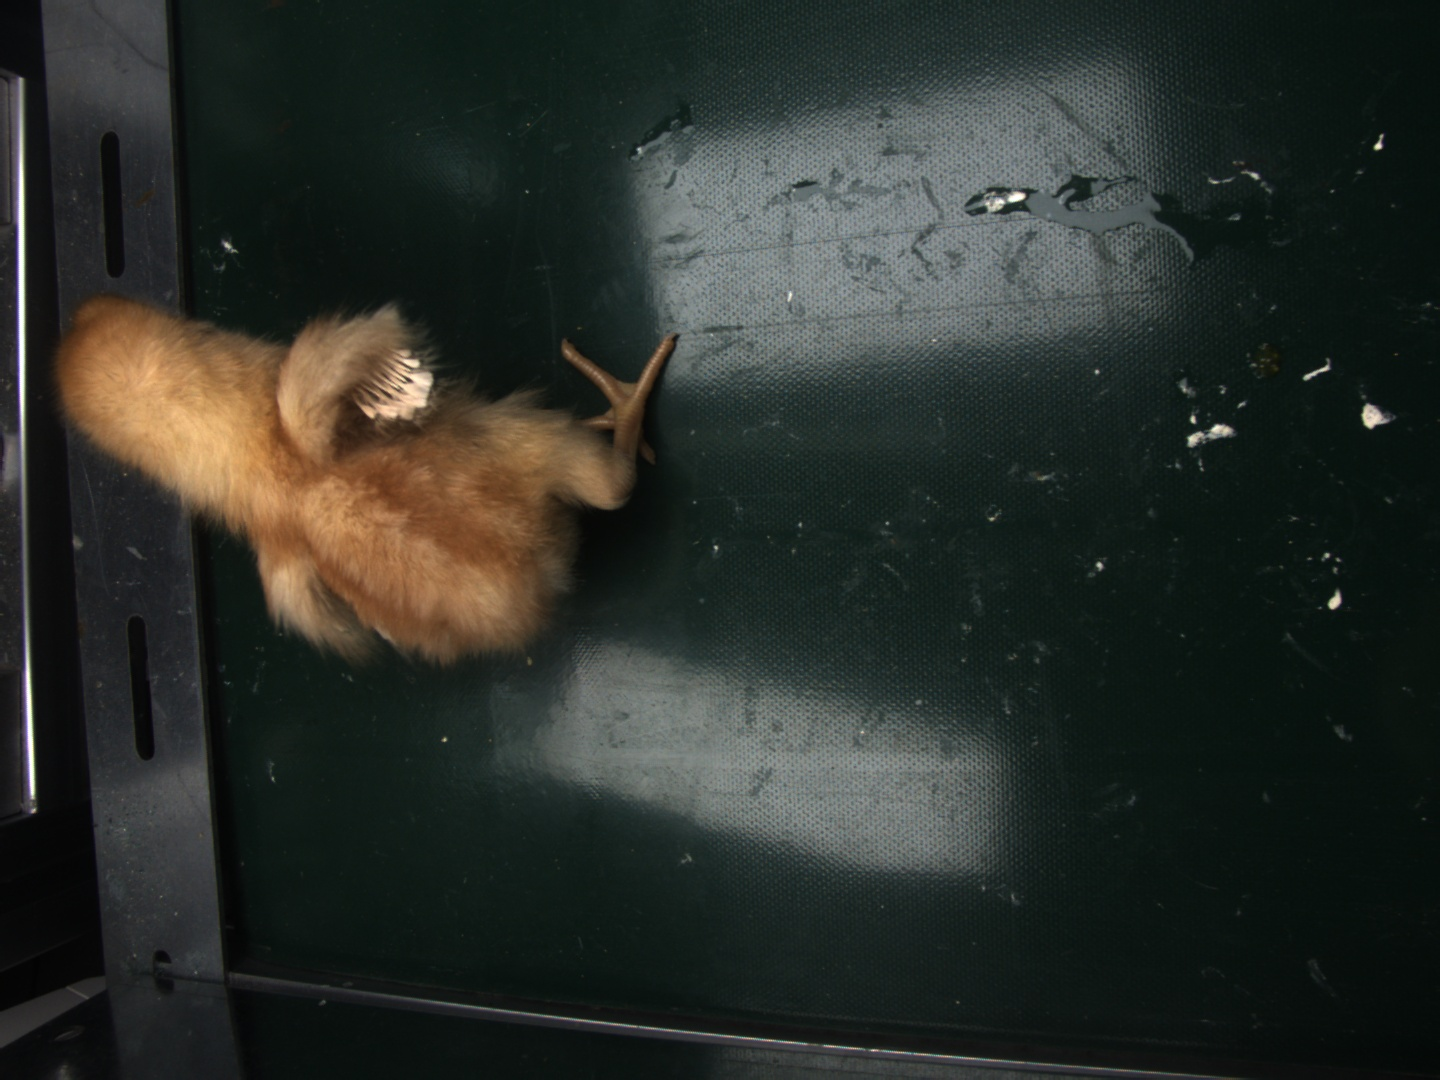female: (361, 352, 433, 420)
